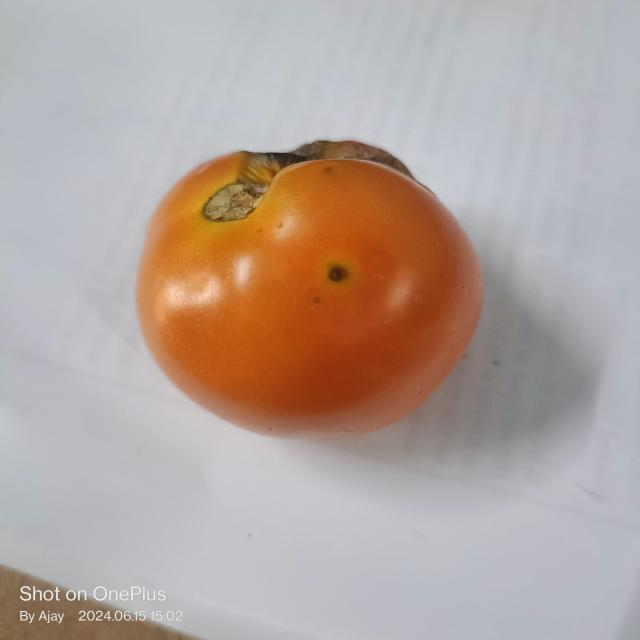fruitworm_bore: (209, 140, 422, 196), (320, 257, 356, 284)
